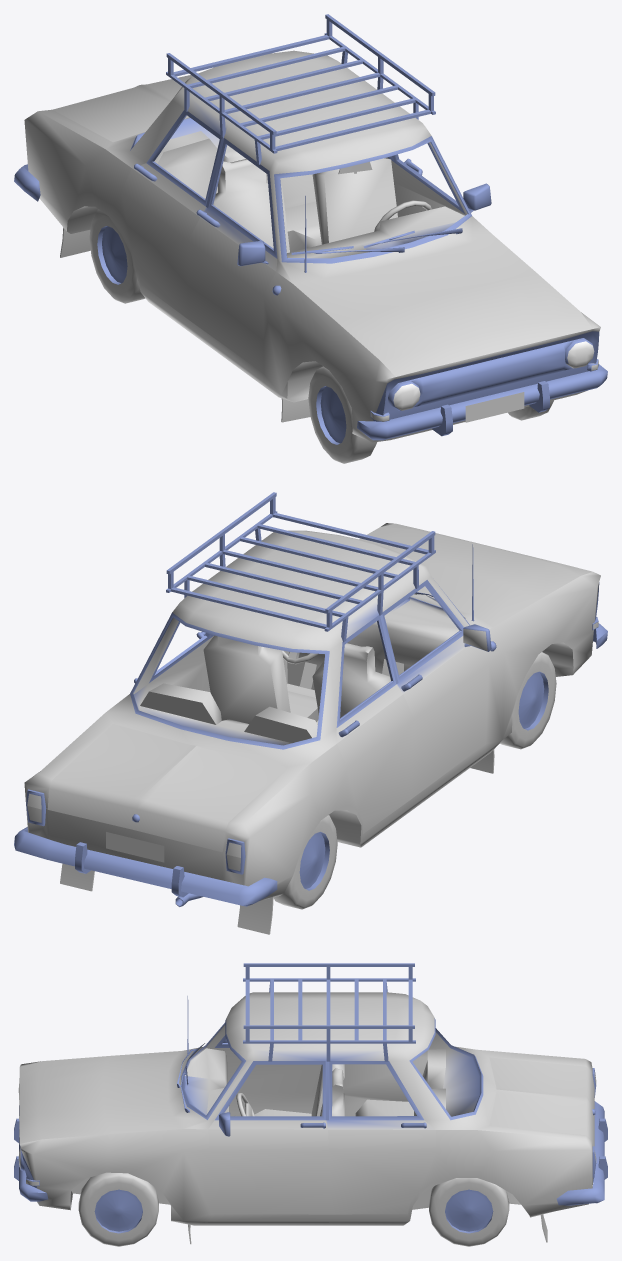
File: MSH_Volga.fbx
3 renders of one model, top to bottom at view 1: azimuth 30°, elevation 25°; view 2: azimuth 150°, elevation 25°; view 3: azimuth 270°, elevation 25°, orthographic. The views are drawn at different scales.
Visible parts, largest first — view 1: MSH_Volga; view 2: MSH_Volga; view 3: MSH_Volga.
Part boxes in pixels (bbox=[...]): MSH_Volga: bbox=[14, 14, 607, 463]; MSH_Volga: bbox=[14, 492, 607, 934]; MSH_Volga: bbox=[14, 963, 607, 1246].
Bounding box in the file's own units: 190 × 192 × 484.
